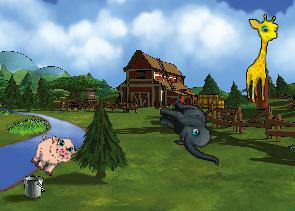elephant: (150, 96, 230, 166)
giraffe: (245, 13, 279, 104)
pig: (25, 126, 80, 182)
